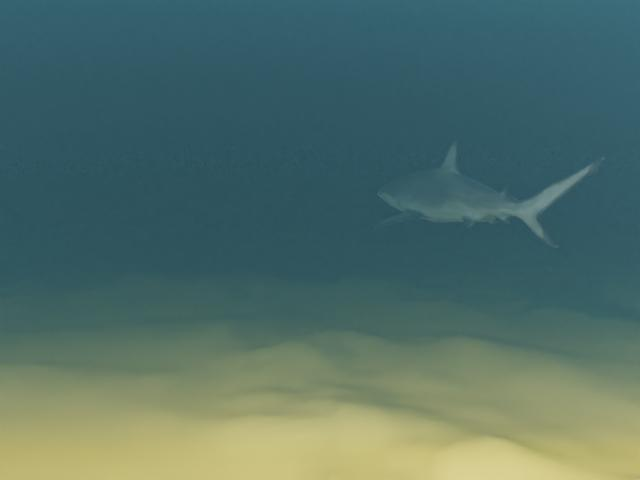Carribean Shark.001: (371, 138, 605, 248)
